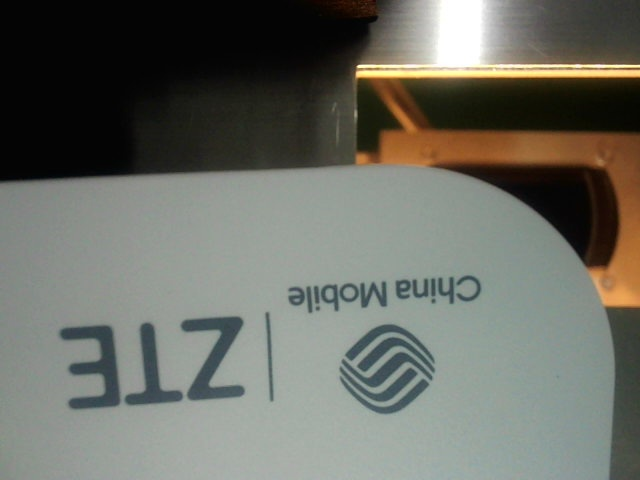AL_ZTEChinaMobile: (54, 275, 490, 420)
